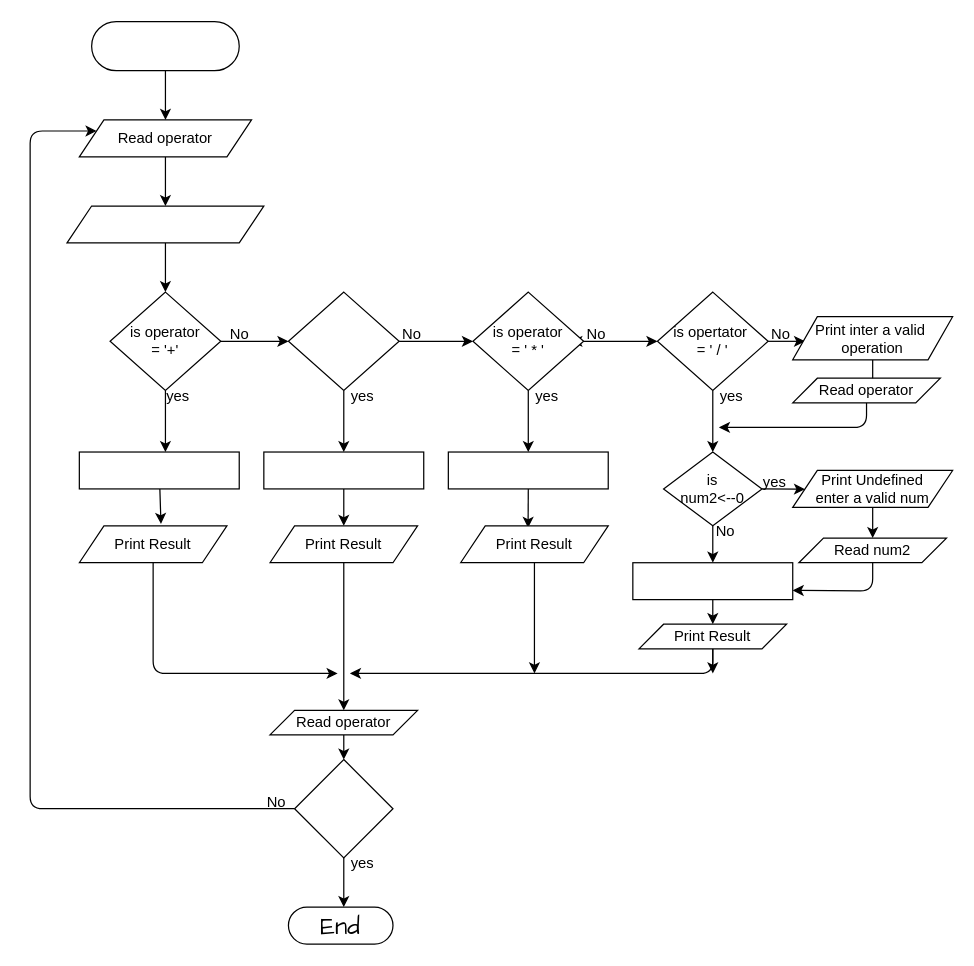
Some shapes in this 974 by 966 pixel diagram are drawn without their labels. The centre of each missing label's shape, as x and y in pixels:
"- Read num1 & num2" belongs at point (165, 224).
"is operator == 0" belongs at point (343, 808).
"is opertator = ' - '" belongs at point (343, 341).
"Result = num1 * num2" belongs at point (527, 470).
"Result = num1 + num2" belongs at point (158, 470).
"Result = num1 - num2" belongs at point (343, 470).
"Result = num1 / num2" belongs at point (712, 580).
"Start" belongs at point (164, 45).
